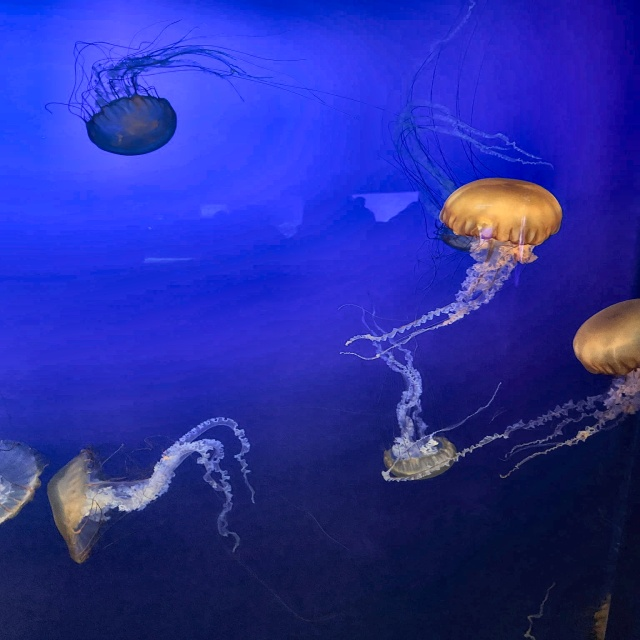jellyfish: (440, 178, 562, 246), (50, 448, 104, 565), (87, 95, 180, 157), (573, 296, 639, 376), (0, 440, 42, 533), (384, 437, 455, 480)
